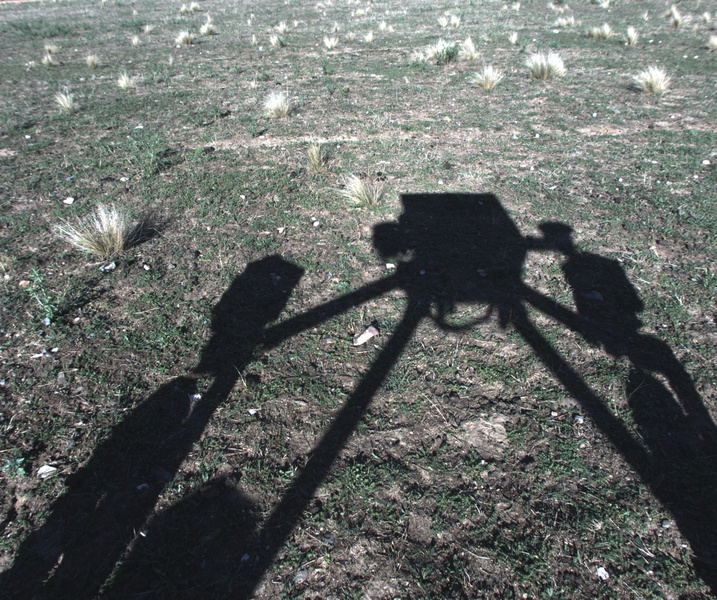st: (62, 202, 138, 266), (338, 164, 388, 211), (630, 64, 671, 94), (525, 49, 563, 78), (473, 60, 501, 93), (265, 88, 294, 117), (420, 37, 449, 62), (301, 139, 327, 165), (50, 89, 75, 115), (120, 71, 146, 95), (80, 51, 102, 73), (39, 44, 56, 70), (319, 30, 340, 50), (552, 11, 574, 29), (174, 31, 196, 48), (668, 8, 681, 36), (591, 26, 613, 40), (198, 17, 214, 36), (267, 31, 285, 47), (462, 41, 479, 56), (271, 22, 288, 36), (626, 24, 635, 47), (363, 30, 375, 47), (129, 31, 142, 46), (139, 22, 154, 33), (506, 29, 516, 44), (431, 16, 443, 28), (451, 15, 462, 28)
